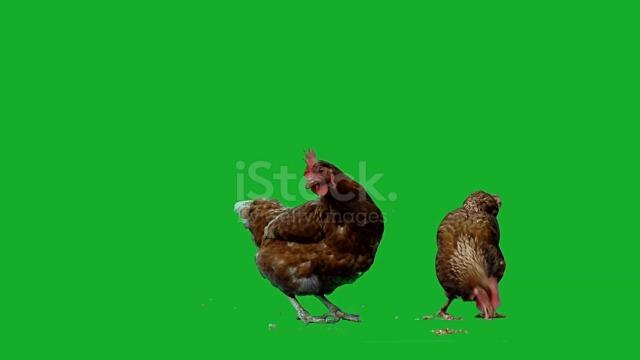Normal: (236, 146, 380, 322), (432, 176, 510, 325)
